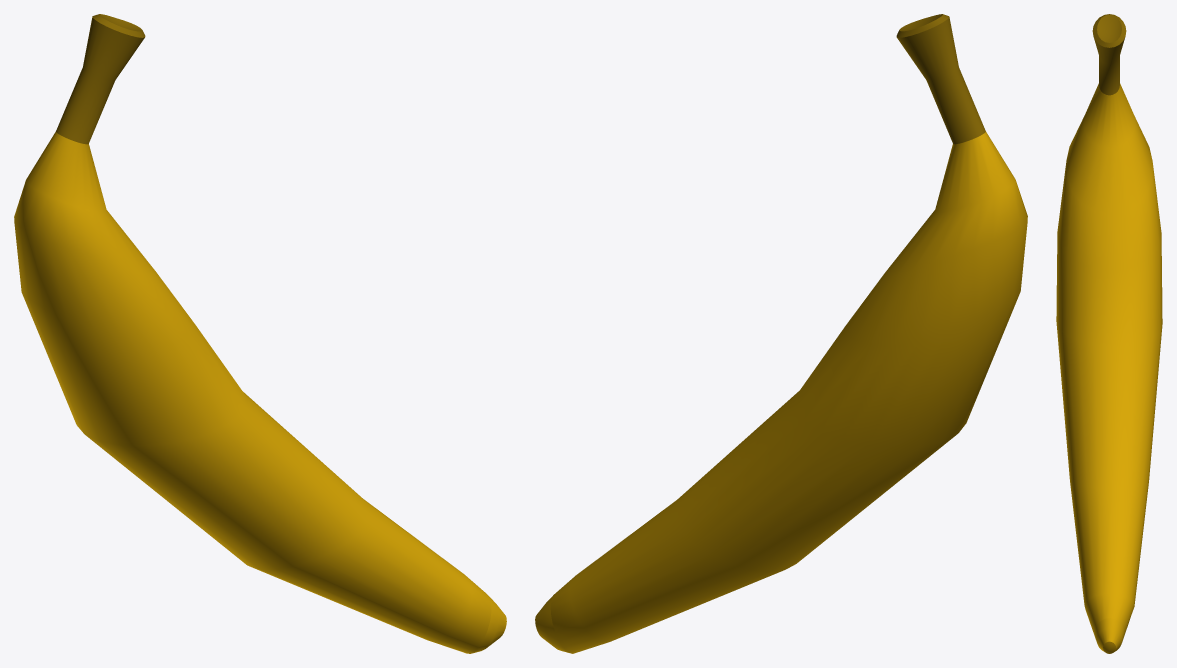
The model's file is Fruit_Banana.fbx.
The picture shows the model from 3 angles, left to right: view 1: azimuth 30°, elevation 25°; view 2: azimuth 150°, elevation 25°; view 3: azimuth 270°, elevation 25°; orthographic projection. The views are drawn at different scales.
Parts seen in each view (by area): view 1: pasted__pCylinder6; view 2: pasted__pCylinder6; view 3: pasted__pCylinder6.
Part boxes in pixels (bbox=[...]): pasted__pCylinder6: bbox=[14, 14, 506, 653]; pasted__pCylinder6: bbox=[535, 14, 1027, 653]; pasted__pCylinder6: bbox=[1056, 14, 1162, 653].
Bounding box in the file's own units: 0.5997 × 0.8586 × 0.1622.
